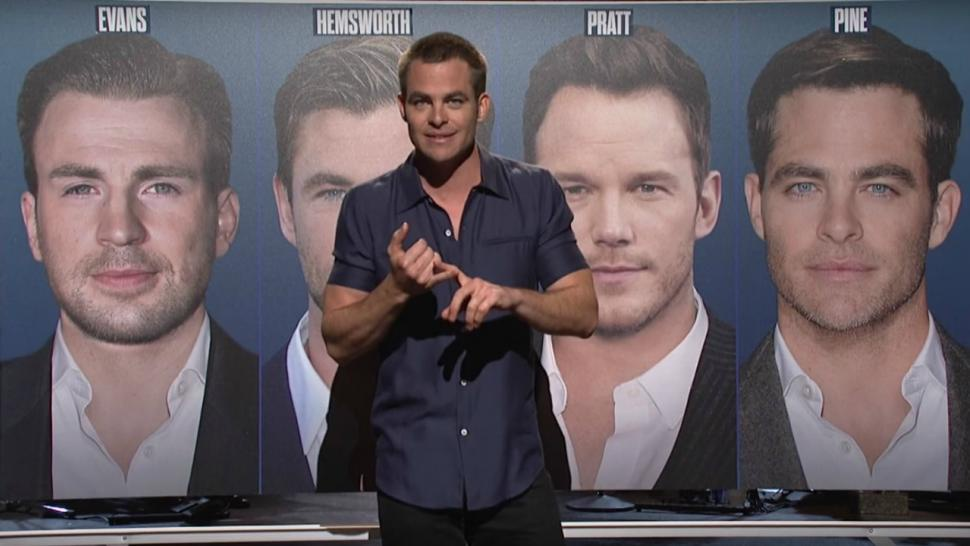bad: (35, 139, 221, 325), (758, 139, 944, 325), (545, 150, 700, 305), (403, 80, 478, 155)
